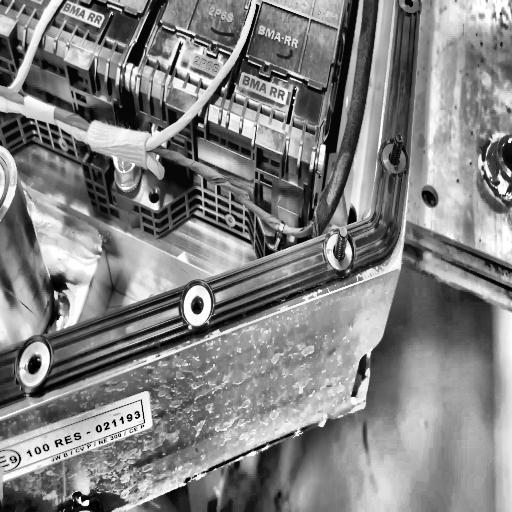high_volt_cable: (0, 0, 265, 182)
